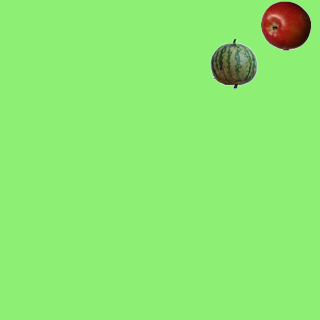Apple Braeburn: (260, 0, 310, 50)
Watermelon: (208, 38, 258, 88)
